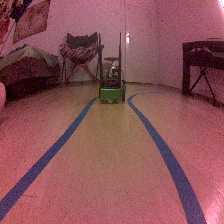rob: (97, 67, 126, 105)
